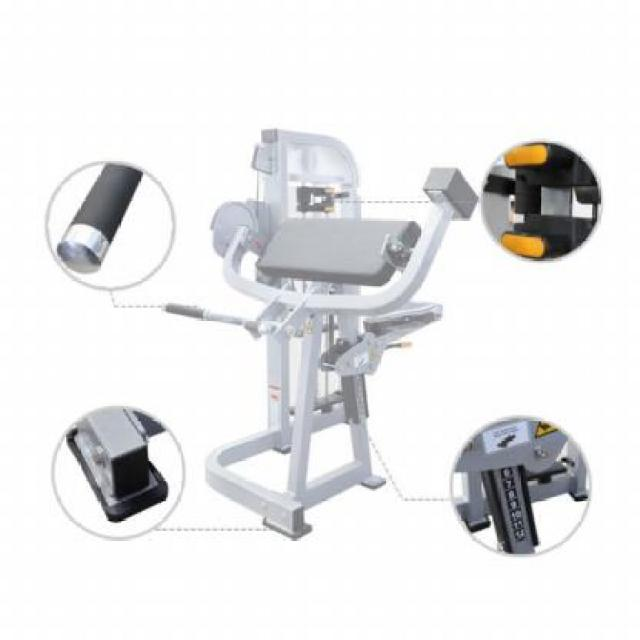arm curl machine: (165, 194, 442, 538)
